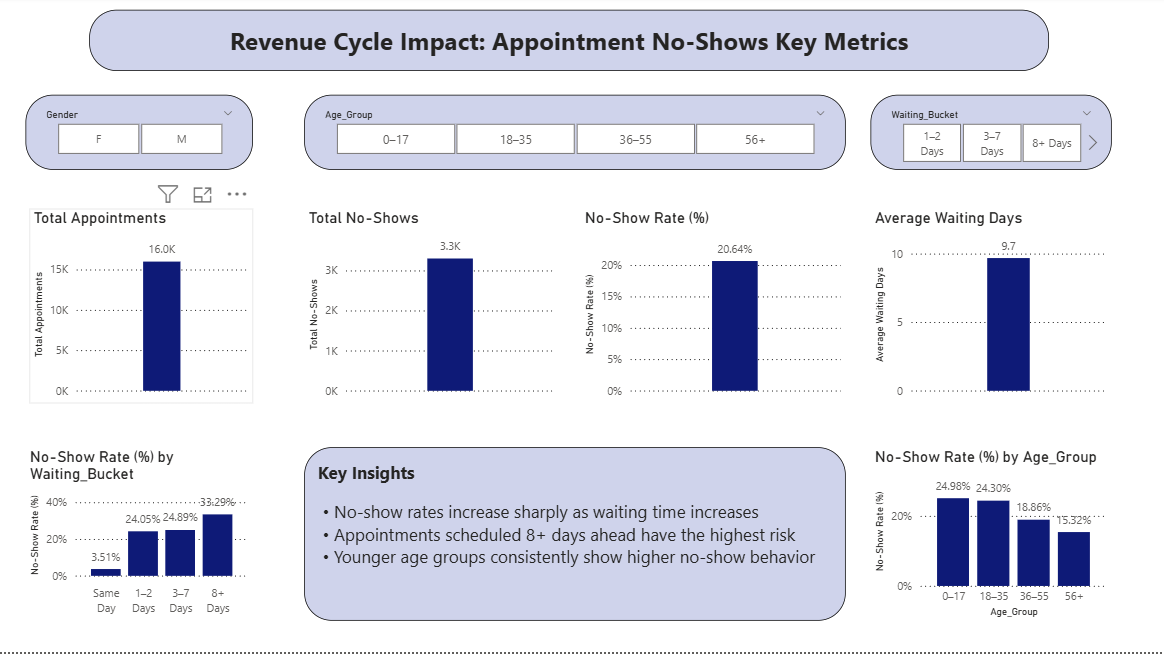

Layout of this report page (visuals, bound fields, positions):
{"tool":"powerbi","page":{"name":"Overview & Key Metrics","canvas":[1280,720],"ordinal":0},"visuals":[{"type":"clusteredColumnChart","fields":{"Y":["Healthcare.Total Appointments"]},"box":[34.3,233.3,245.6,214.1],"z":0},{"type":"clusteredColumnChart","fields":{"Y":["Healthcare.Average Waiting Days"]},"box":[957.8,233.3,264.8,214.1],"z":1000},{"type":"clusteredColumnChart","fields":{"Y":["Healthcare.Total No-Shows"]},"box":[336.2,233.3,281.3,214.1],"z":2000},{"type":"clusteredColumnChart","fields":{"Y":["Healthcare.No-Show Rate (%)"]},"box":[639.5,233.3,290.9,214.1],"z":3000},{"type":"clusteredColumnChart","fields":{"Category":["Healthcare.Waiting_Bucket"],"Y":["Healthcare.No-Show Rate (%)"]},"box":[30.2,495.4,249.7,192.1],"z":4000},{"type":"clusteredColumnChart","fields":{"Y":["Healthcare.No-Show Rate (%)"],"Category":["Healthcare.Age_Group"]},"box":[957.8,495.4,264.8,192.1],"z":5000},{"type":"textbox","box":[336.2,495.4,594.2,190.7],"z":6000},{"type":"slicer","title":"Gender","fields":{"Values":["Healthcare.Gender"]},"box":[30.2,108.4,249.7,82.3],"z":7000},{"type":"slicer","title":"Age Group","fields":{"Values":["Healthcare.Age_Group"]},"box":[336.2,108.4,594.2,82.3],"z":8000},{"type":"slicer","title":"Waiting Bucket","fields":{"Values":["Healthcare.Waiting_Bucket"]},"box":[957.8,108.4,264.8,82.3],"z":9000},{"type":"textbox","box":[100.2,15.1,1053.9,67.2],"z":10000}]}

Visuals, with their boxes in screenshot pixels (x1, y1, x2, y2), scaled from the page's 1280x720 canvas onto the 1164x659 screenshot:
clusteredColumnChart - Healthcare.Total Appointments: {"left": 31, "top": 214, "right": 255, "bottom": 409}
clusteredColumnChart - Healthcare.Average Waiting Days: {"left": 871, "top": 214, "right": 1112, "bottom": 409}
clusteredColumnChart - Healthcare.Total No-Shows: {"left": 306, "top": 214, "right": 562, "bottom": 409}
clusteredColumnChart - Healthcare.No-Show Rate (%): {"left": 582, "top": 214, "right": 846, "bottom": 409}
clusteredColumnChart - Healthcare.Waiting_Bucket x Healthcare.No-Show Rate (%): {"left": 27, "top": 453, "right": 255, "bottom": 629}
clusteredColumnChart - Healthcare.No-Show Rate (%) x Healthcare.Age_Group: {"left": 871, "top": 453, "right": 1112, "bottom": 629}
textbox: {"left": 306, "top": 453, "right": 846, "bottom": 628}
"Gender" slicer: {"left": 27, "top": 99, "right": 255, "bottom": 175}
"Age Group" slicer: {"left": 306, "top": 99, "right": 846, "bottom": 175}
"Waiting Bucket" slicer: {"left": 871, "top": 99, "right": 1112, "bottom": 175}
textbox: {"left": 91, "top": 14, "right": 1050, "bottom": 75}
